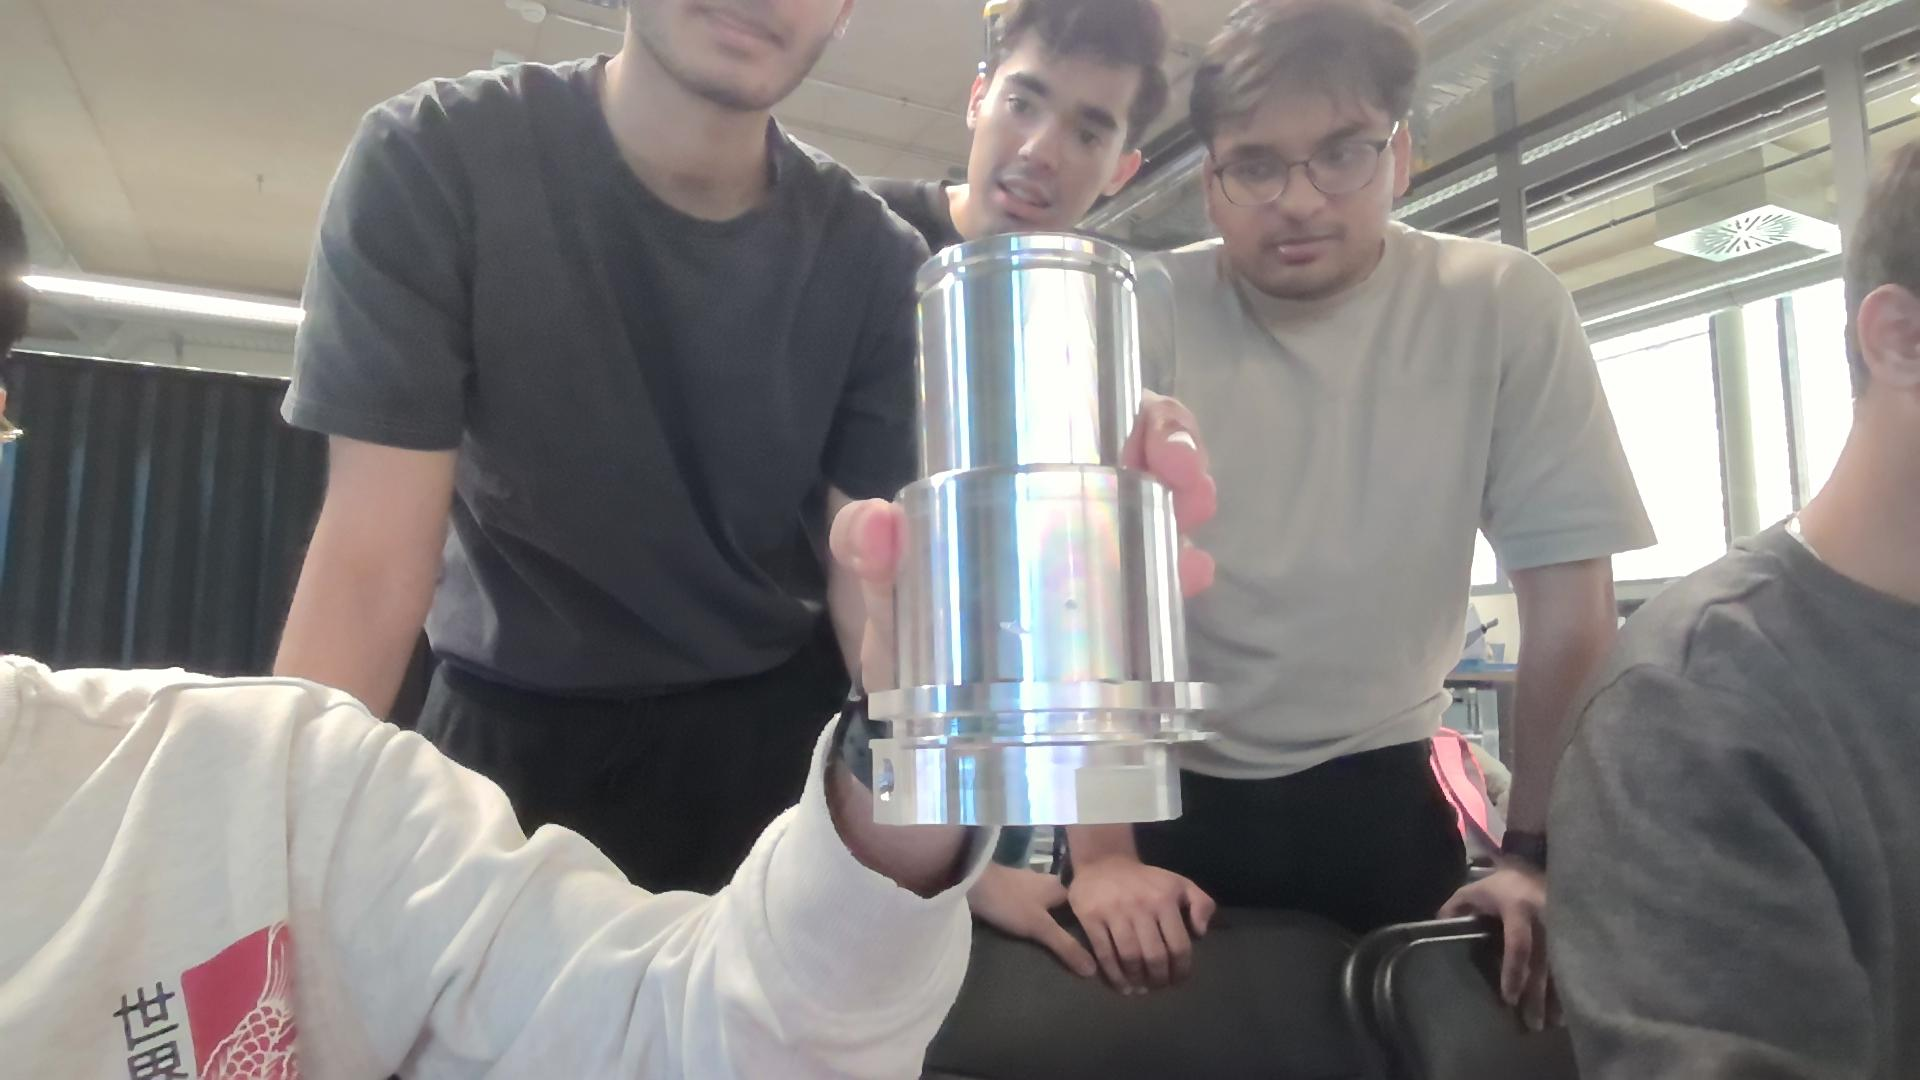damage: (993, 613, 1039, 644), (1056, 591, 1084, 617)
objects: (839, 235, 1218, 832)
